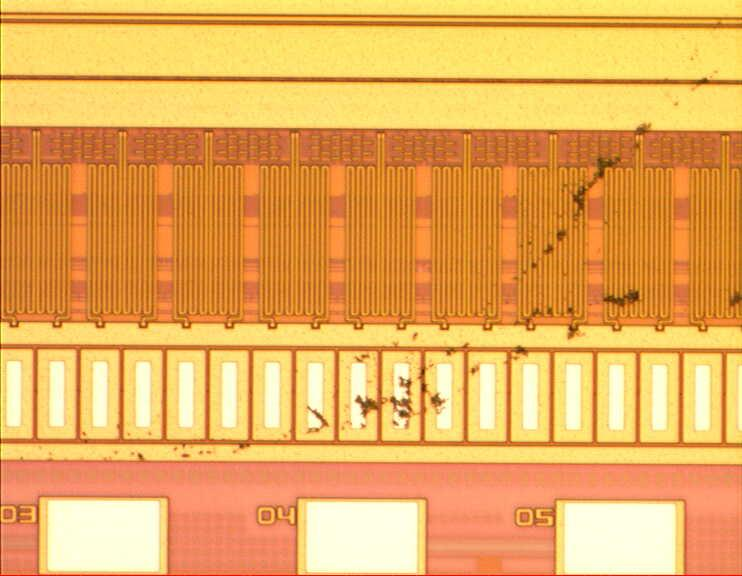PO CONTAMINATION: (13, 64, 722, 474)
